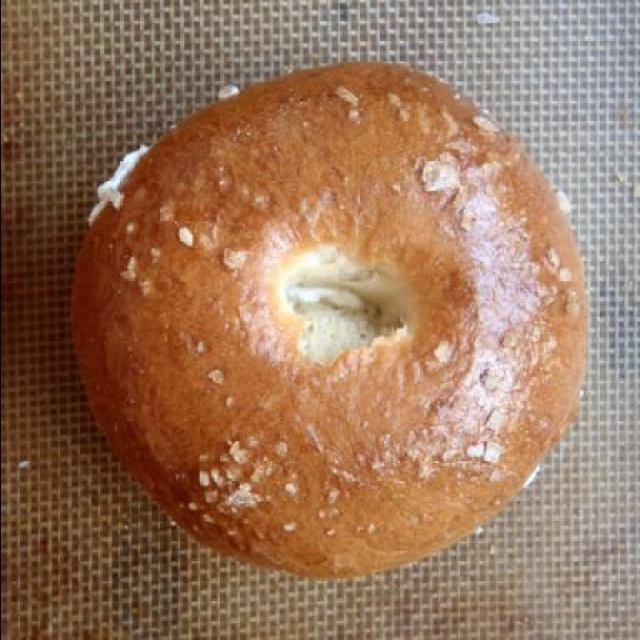Bagel: (68, 64, 590, 578)
